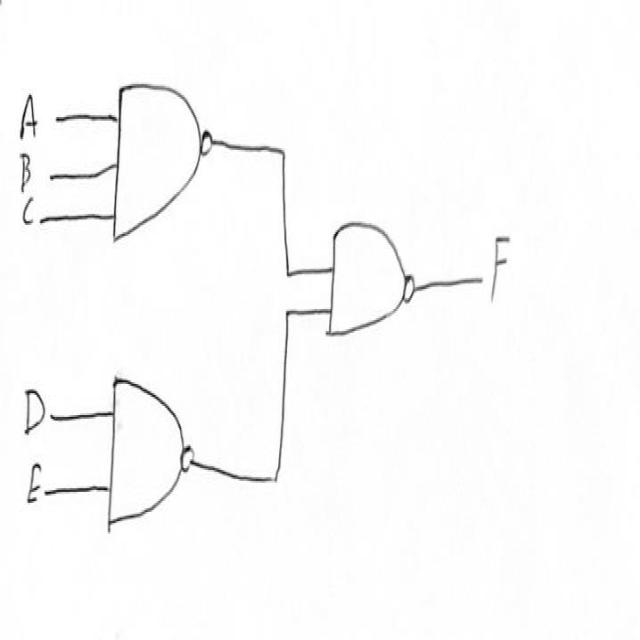NAND: (107, 57, 225, 254), (104, 357, 207, 556), (323, 213, 421, 370)
